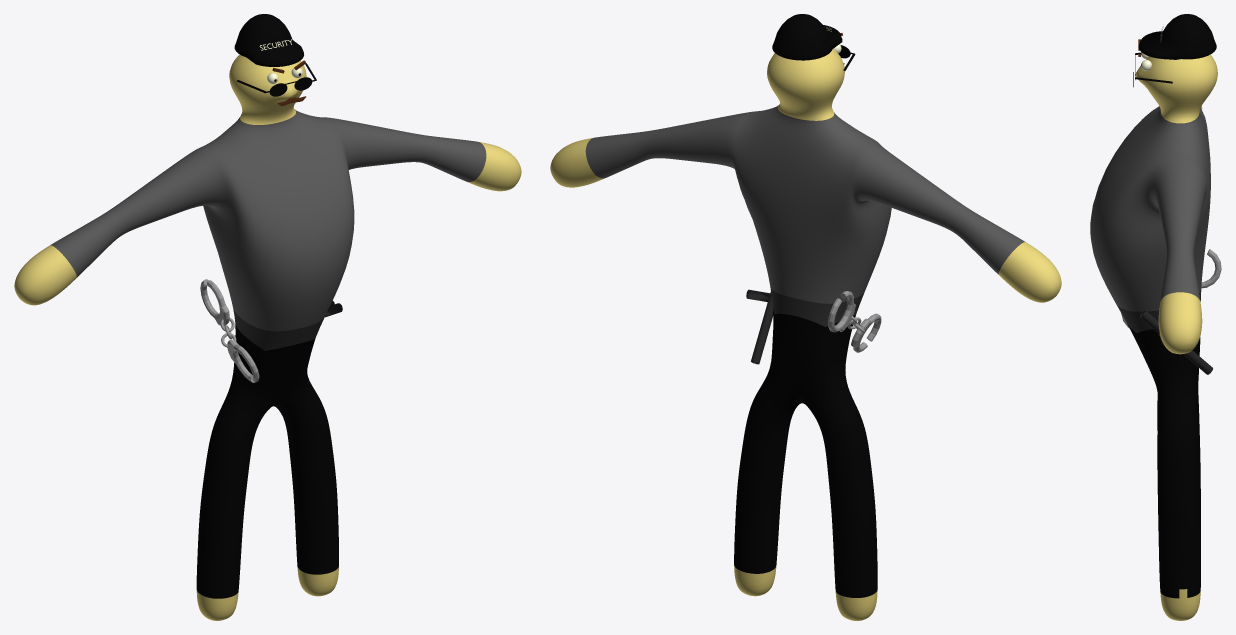
Rendered from SecurityGuardwithAccessories.fbx.
3 renders of one model, left to right at view 1: azimuth 30°, elevation 25°; view 2: azimuth 150°, elevation 25°; view 3: azimuth 270°, elevation 25°, orthographic. The views are drawn at different scales.
Visible parts, largest first — view 1: Plane, Sphere.002, Torus.007; view 2: Plane, Sphere.002, Torus.007, Cylinder.001; view 3: Plane, Sphere.002, Cylinder.001, Torus.007.
Part boxes in pixels (x1,y1,x2,y2): Plane: [14, 54, 521, 620]; Sphere.002: [234, 14, 303, 66]; Torus.007: [200, 279, 259, 382]; Plane: [550, 48, 1061, 620]; Sphere.002: [772, 14, 842, 60]; Torus.007: [828, 291, 881, 352]; Cylinder.001: [746, 289, 773, 364]; Plane: [1090, 54, 1217, 620]; Sphere.002: [1138, 14, 1216, 59]; Cylinder.001: [1140, 310, 1212, 374]; Torus.007: [1121, 249, 1221, 327].
Size of the model in its own units: 736 by 825 by 170.
Materials: 9 (9 with a texture image).
